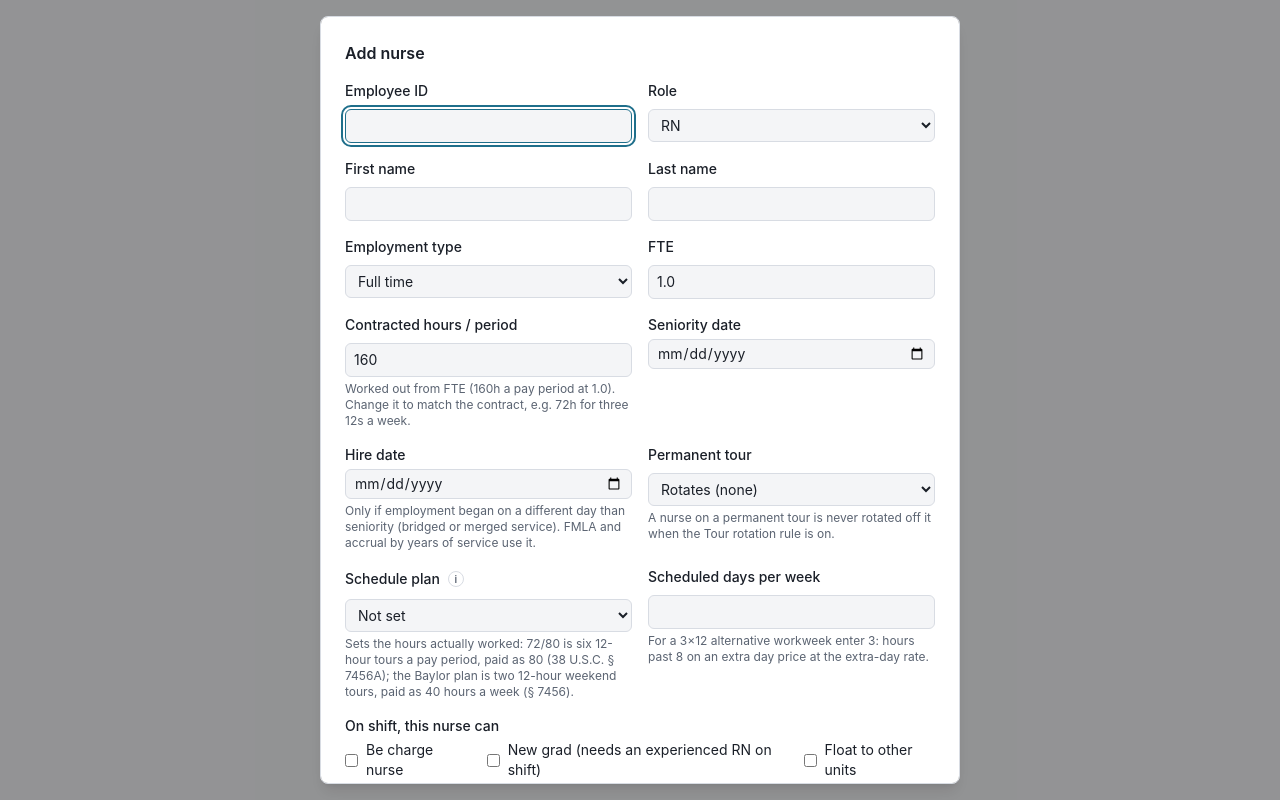
Test: choosing a nurse’s schedule plan › scales the worked hours to a 28-day pay period
The width and height of the screenshot is (1280, 800).
Select "VA 72/80 (38 U.S.C. § 7456A)" in the dropdown labelled "Schedule plan": (488, 616) 345,599 -> 632,632
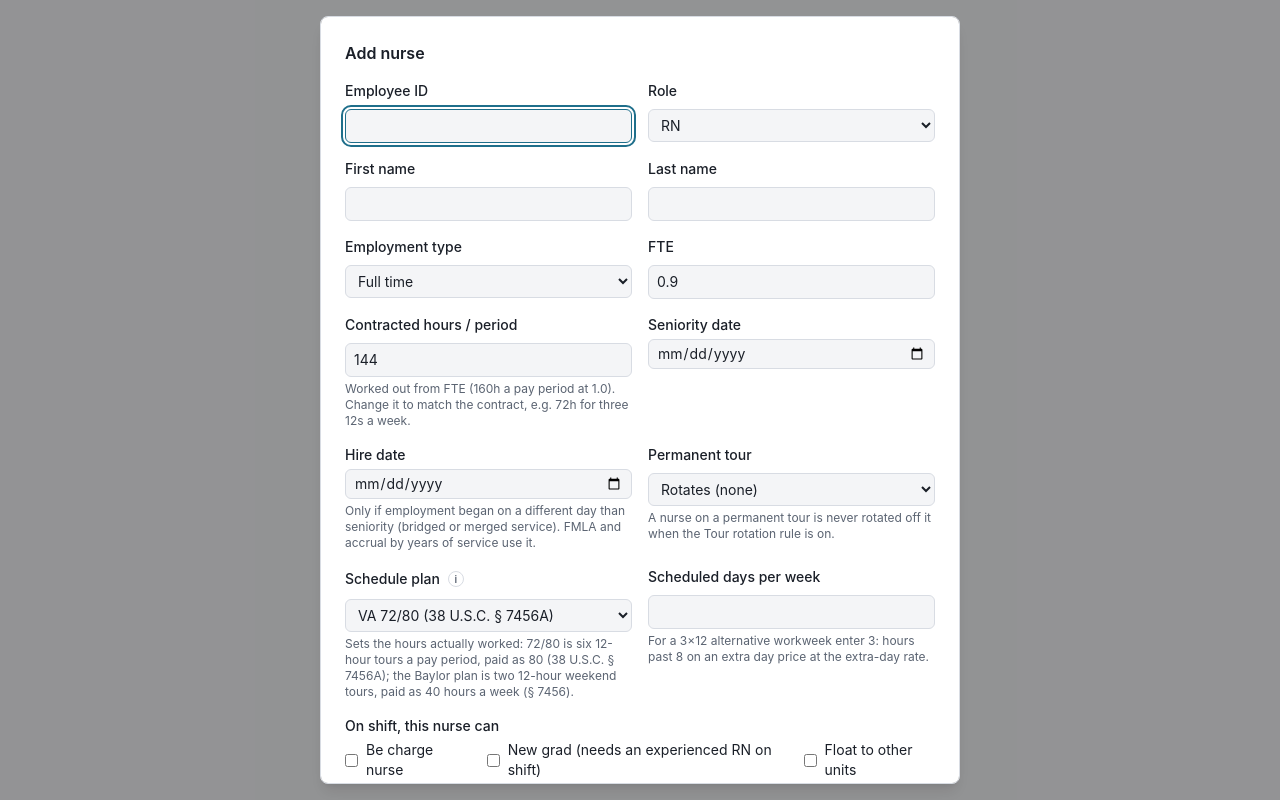
Expected: the number field labelled "Contracted hours / period" holds "144", 345,343 -> 632,377
Select "VA Baylor weekend plan (38 U.S.C. § 7456)" in the dropdown labelled "Schedule plan": (488, 616) 345,599 -> 632,632
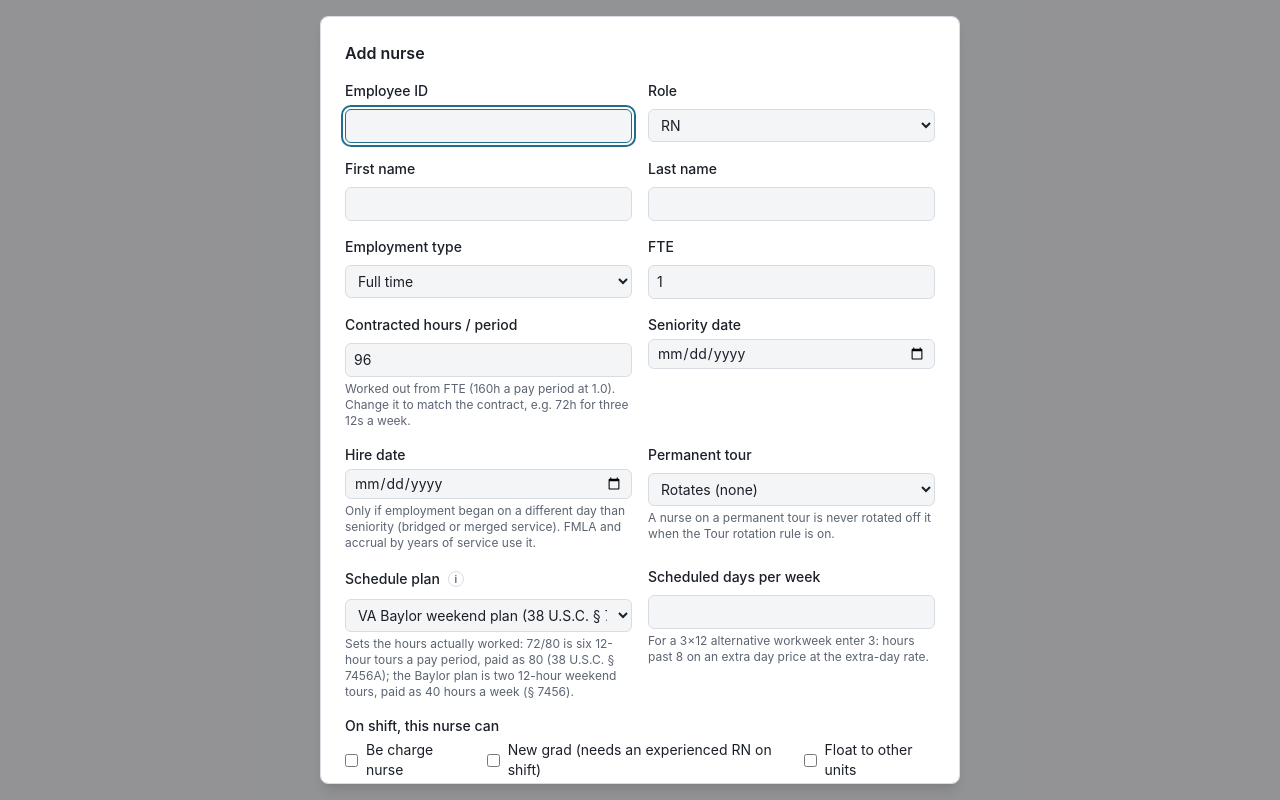
Expected: the number field labelled "Contracted hours / period" holds "96", 345,343 -> 632,377
